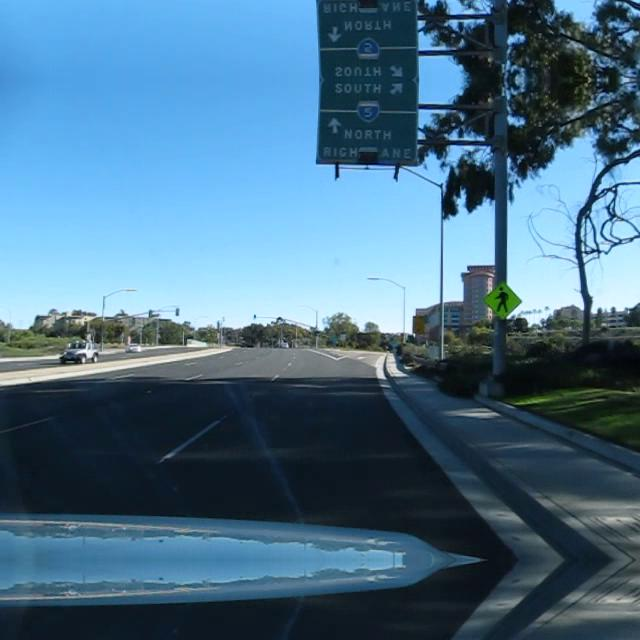pedestrianCrossing: (481, 279, 522, 321)
